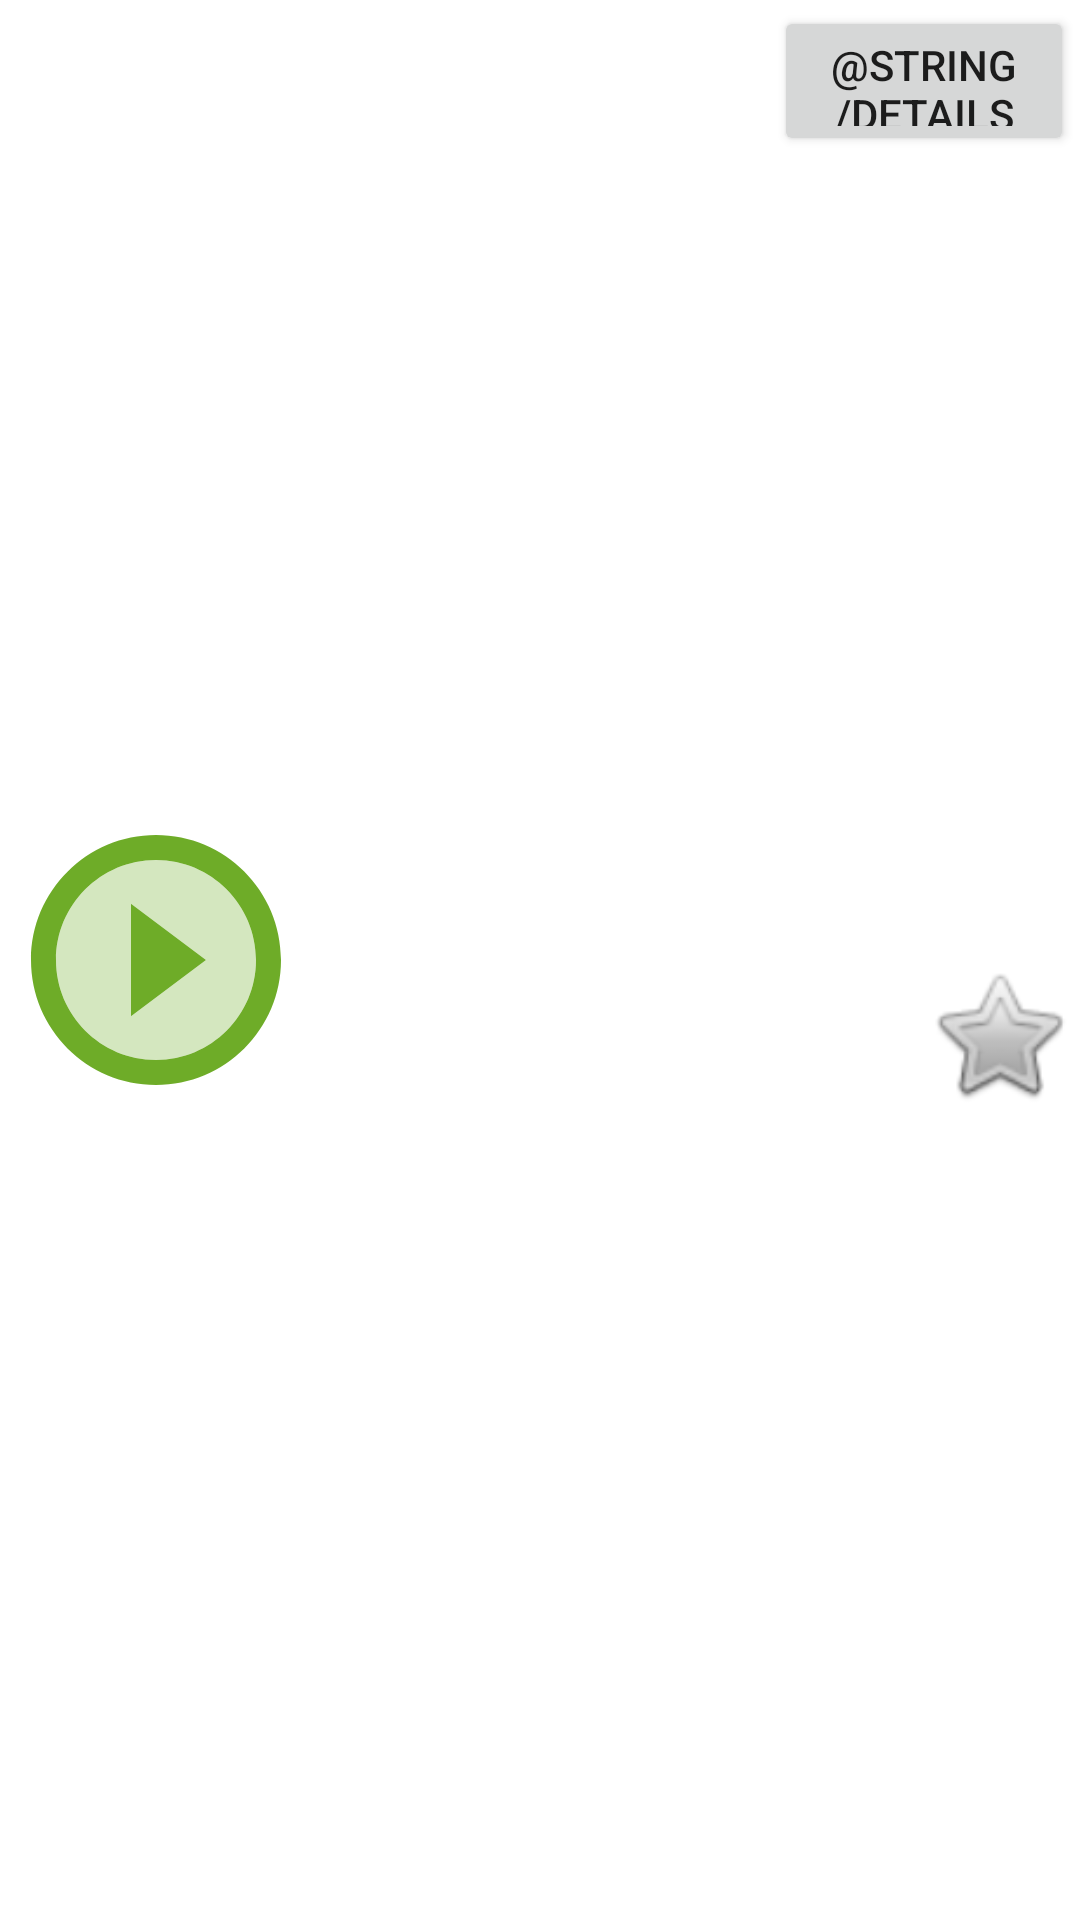

Screen size 1080w x 1920h. Icon name, then its box in pixels as (x1, y1, x2, y2):
star off: (938, 975, 1063, 1097)
